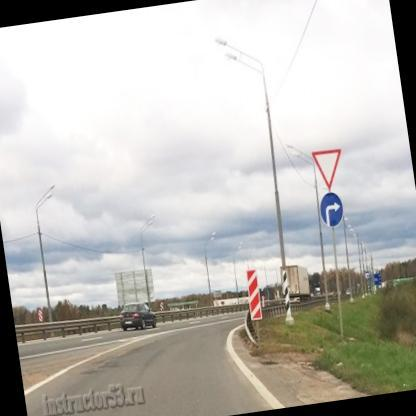road_sign: (313, 150, 341, 192), (321, 193, 343, 226)
